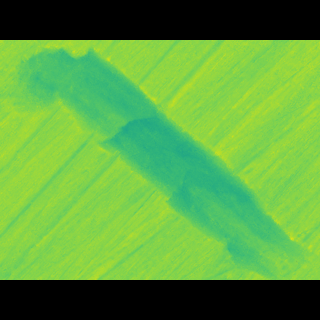Loch: (11, 73, 314, 250)
